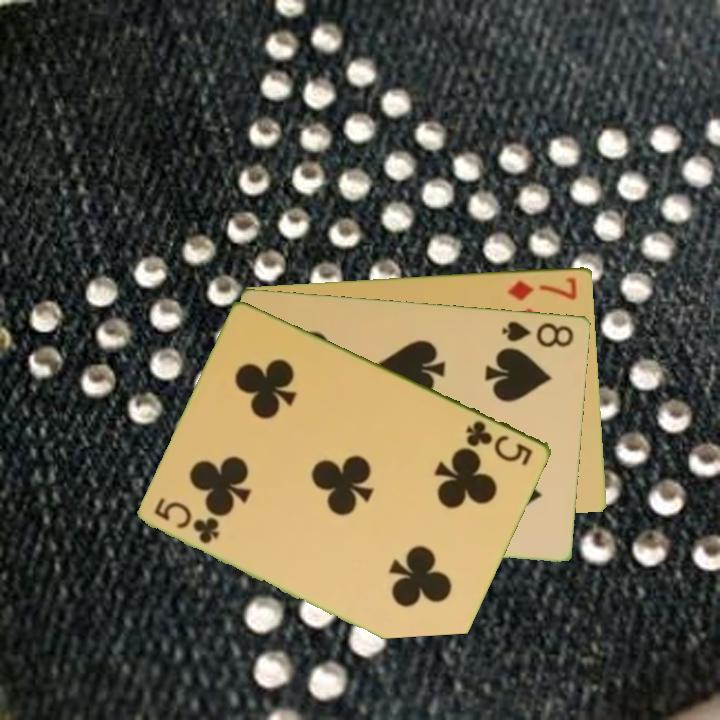5c: (462, 416, 536, 469), (151, 494, 223, 547)
7d: (504, 274, 580, 303)
8s: (498, 317, 577, 350)
